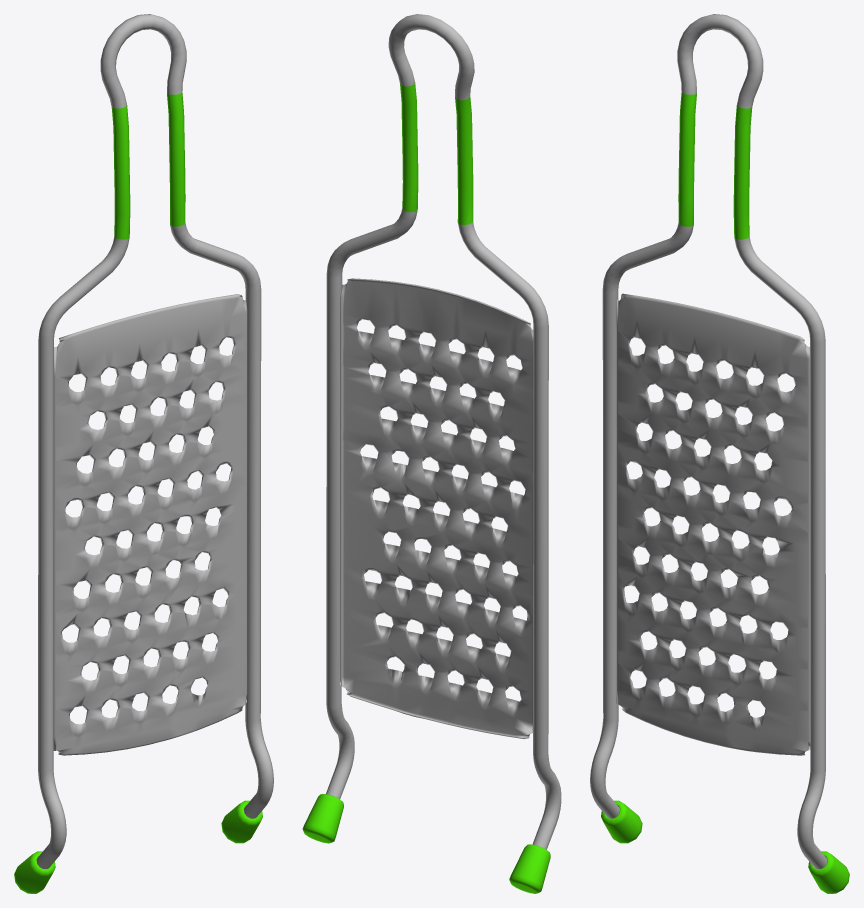
Rendered from Tool_Rapper.fbx.
3 views of the same model, side by side, from view 1: azimuth 30°, elevation 25°; view 2: azimuth 150°, elevation 25°; view 3: azimuth 330°, elevation 25° (orthographic).
Visible parts, largest first — view 1: Tool_Common_Rapper; view 2: Tool_Common_Rapper; view 3: Tool_Common_Rapper.
Boxes of the visible parts, x1,y1,x2,y2 form: Tool_Common_Rapper: [14, 14, 273, 893]; Tool_Common_Rapper: [302, 14, 561, 893]; Tool_Common_Rapper: [590, 14, 849, 893].
Bounding box in the file's own units: 10.51 × 36.14 × 2.96.
